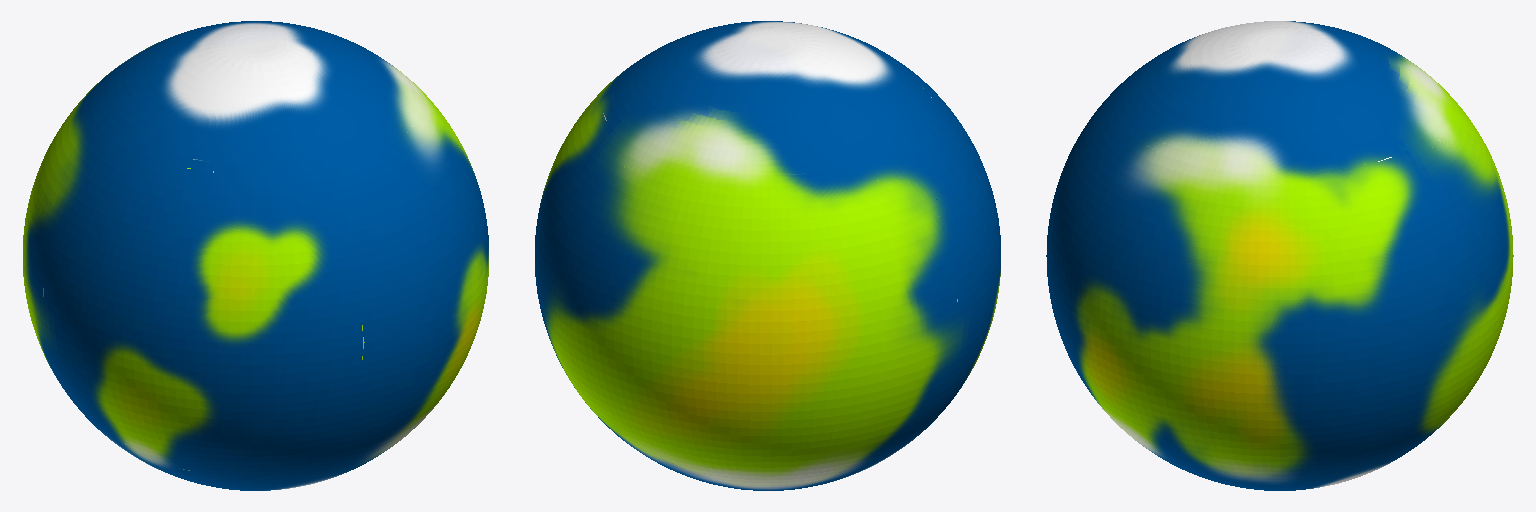
The picture shows the model from 3 angles: view 1: azimuth 30°, elevation 25°; view 2: azimuth 150°, elevation 25°; view 3: azimuth 270°, elevation 25°; orthographic projection.
Visible parts, largest first — view 1: Sphere; view 2: Sphere; view 3: Sphere.
Part boxes in pixels (x1,y1,x2,y2): Sphere: (23, 21, 488, 490); Sphere: (535, 21, 1000, 490); Sphere: (1046, 21, 1513, 490).
Bounding box in the file's own units: 1.97 × 1.97 × 1.97.
Materials: 1 (1 with a texture image).